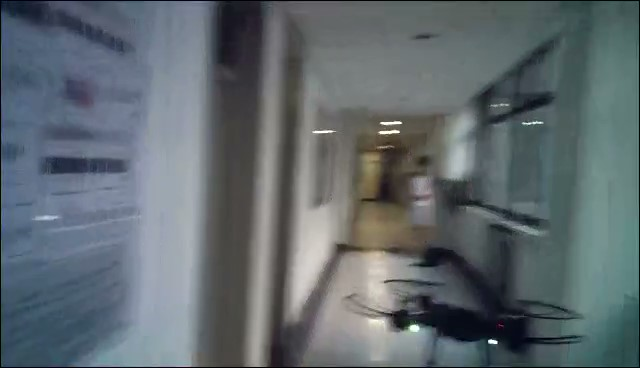drone: (340, 278, 587, 368)
person: (406, 155, 436, 262)
